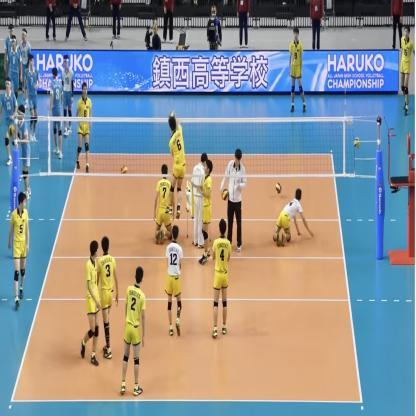spike: (164, 102, 189, 224)
